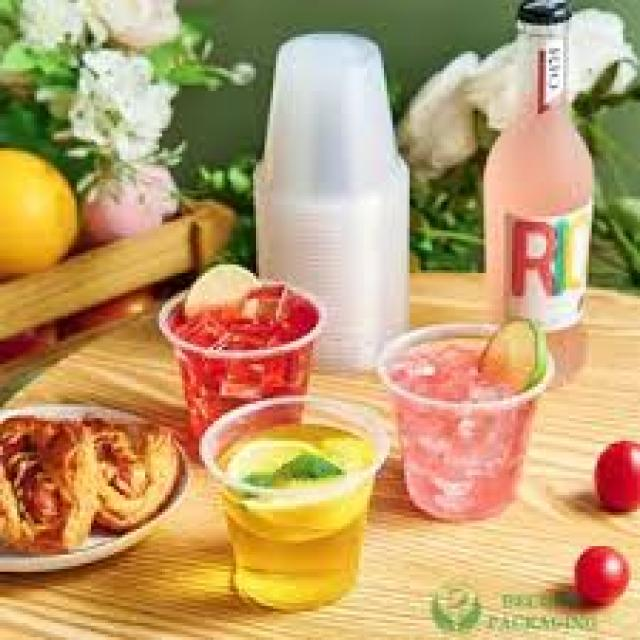bottle: (200, 395, 389, 611), (380, 321, 552, 519), (159, 281, 322, 454), (263, 34, 410, 208)
